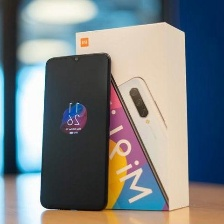book: (69, 19, 195, 214)
phone: (37, 47, 114, 213)
